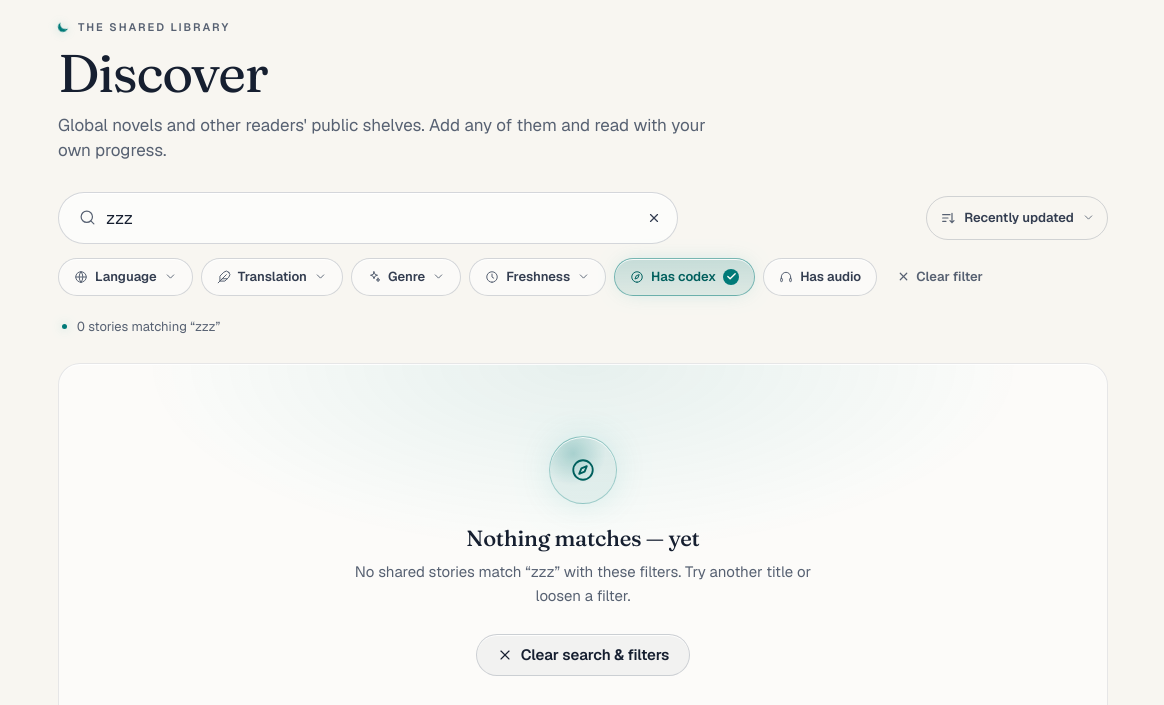
it: Discover › offers a way out when nothing matches
Expected: the text "Nothing matches — yet" is shown, [466, 524, 700, 552]
Click the button "Clear search & filters".
click(583, 655)  # box [476, 634, 690, 676]
(page scrolled)
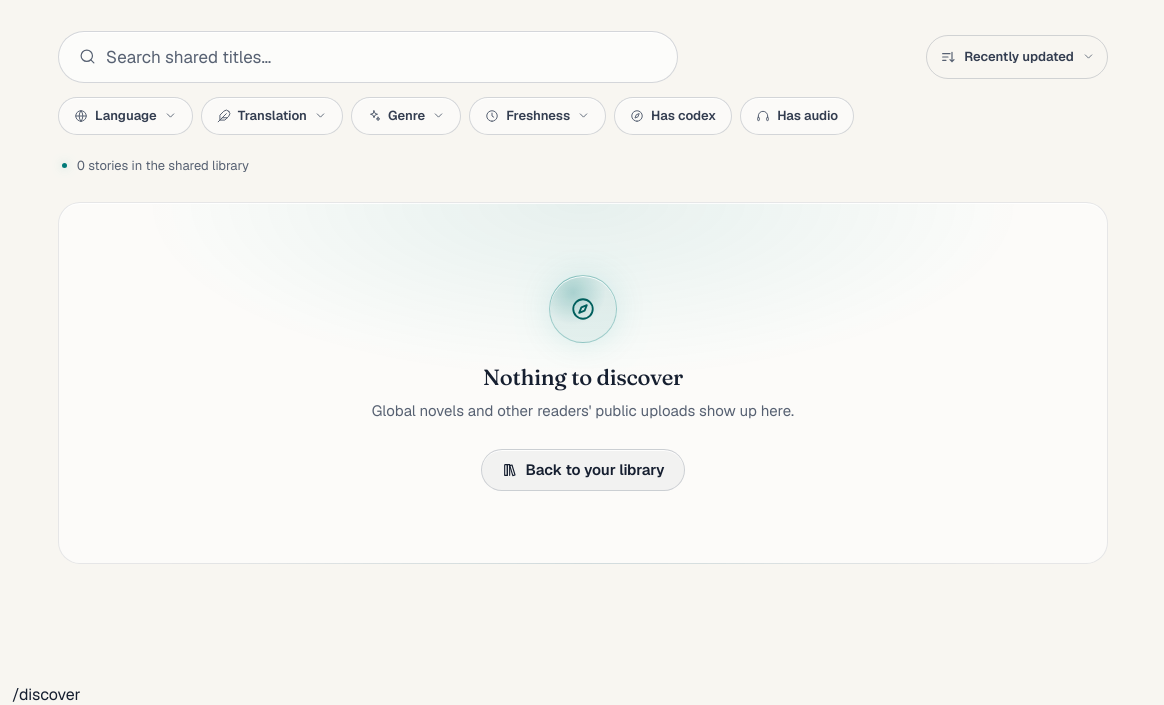
Result: the text with test id "where" reads "/discover" at [12, 684, 80, 704]
